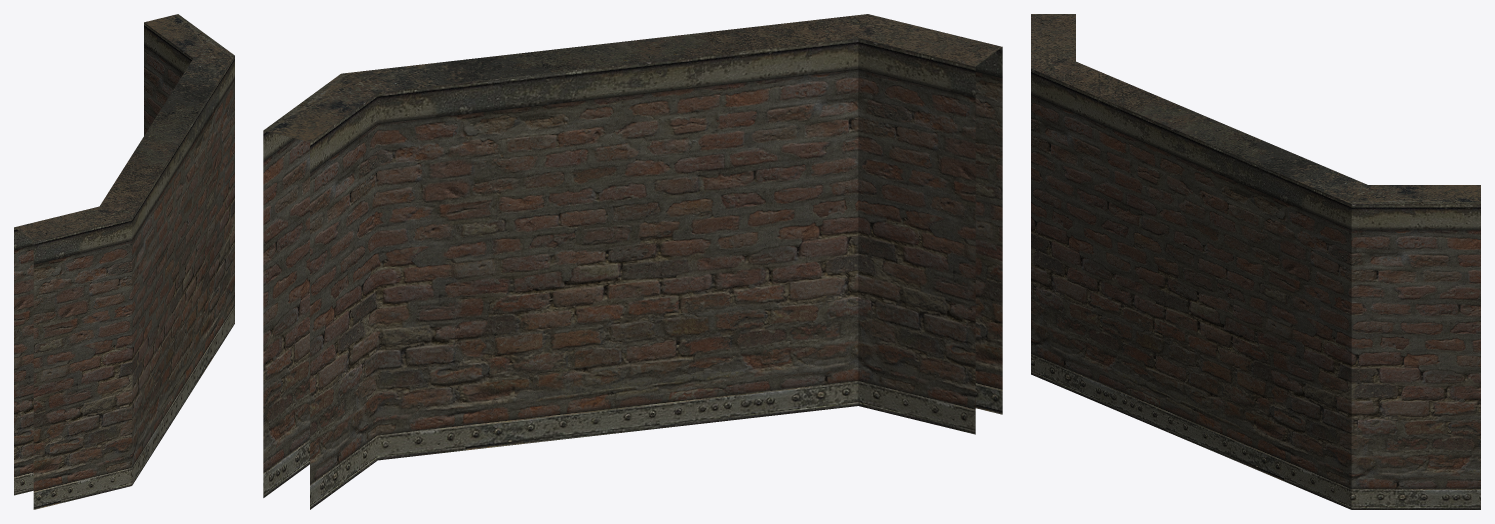
File: wall_hr_1_m1a_1.fbx
The picture shows the model from 3 angles, left to right: view 1: azimuth 30°, elevation 25°; view 2: azimuth 150°, elevation 25°; view 3: azimuth 270°, elevation 25°; orthographic projection. The views are drawn at different scales.
Visible parts, largest first — view 1: wall_hr_1_m1a_1; view 2: wall_hr_1_m1a_1; view 3: wall_hr_1_m1a_1.
Boxes of the visible parts, <box> form: wall_hr_1_m1a_1: <box>14,14,234,509</box>; wall_hr_1_m1a_1: <box>263,14,1002,509</box>; wall_hr_1_m1a_1: <box>1031,14,1480,509</box>.
Size of the model in its own units: 4 by 4 by 3.
